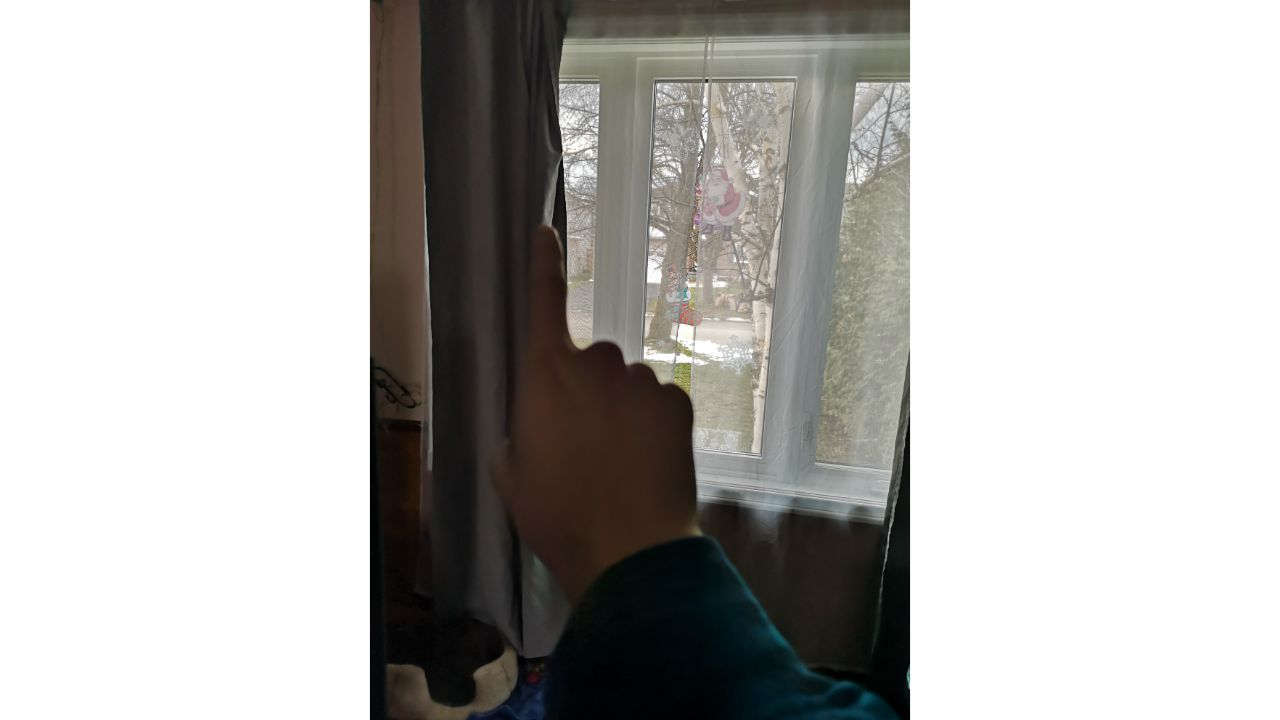finger: (494, 224, 701, 540)
